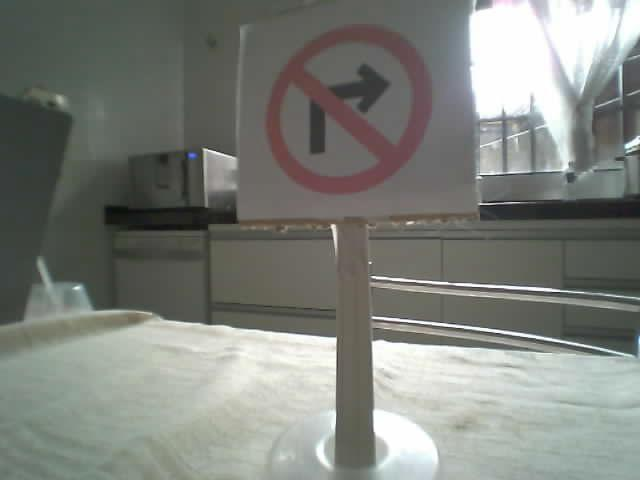R-4b_proibido-direita: (265, 25, 430, 193)
